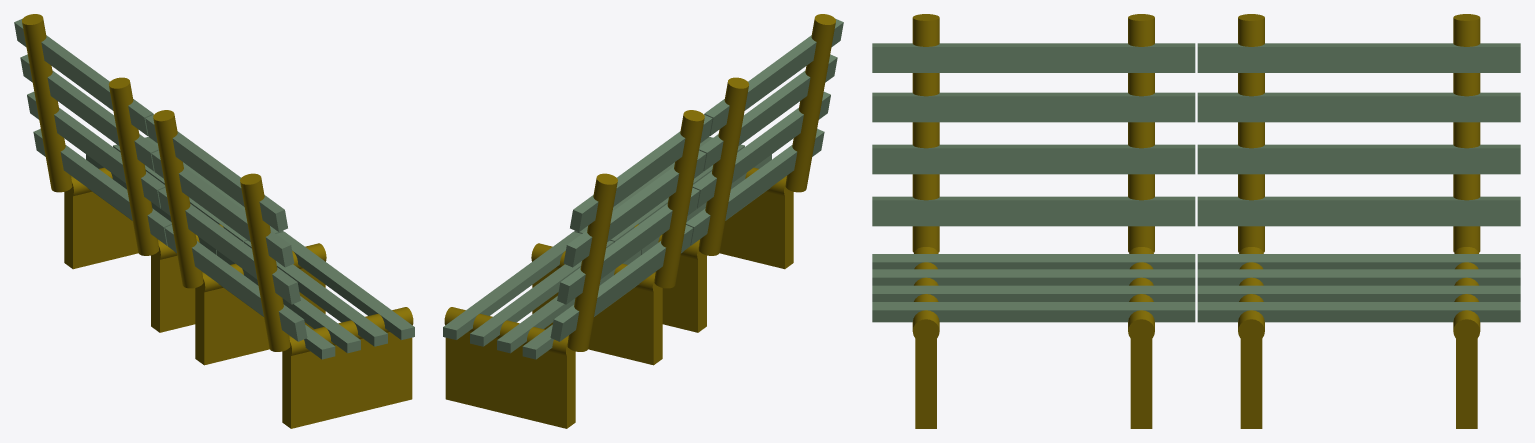
The model's file is parkbench.fbx.
The picture shows the model from 3 angles, left to right: view 1: azimuth 30°, elevation 25°; view 2: azimuth 150°, elevation 25°; view 3: azimuth 270°, elevation 25°; orthographic projection. The views are drawn at different scales.
Parts seen in each view (by area): view 1: polySurface6; view 2: polySurface6; view 3: polySurface6.
Part boxes in pixels (<box>): polySurface6: <box>14,14,414,428</box>; polySurface6: <box>443,14,843,428</box>; polySurface6: <box>872,14,1520,428</box>.
Bounding box in the file's own units: 8.86 × 13.06 × 24.08.
